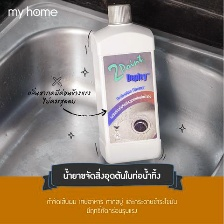cleaning_solution: (88, 2, 164, 166)
